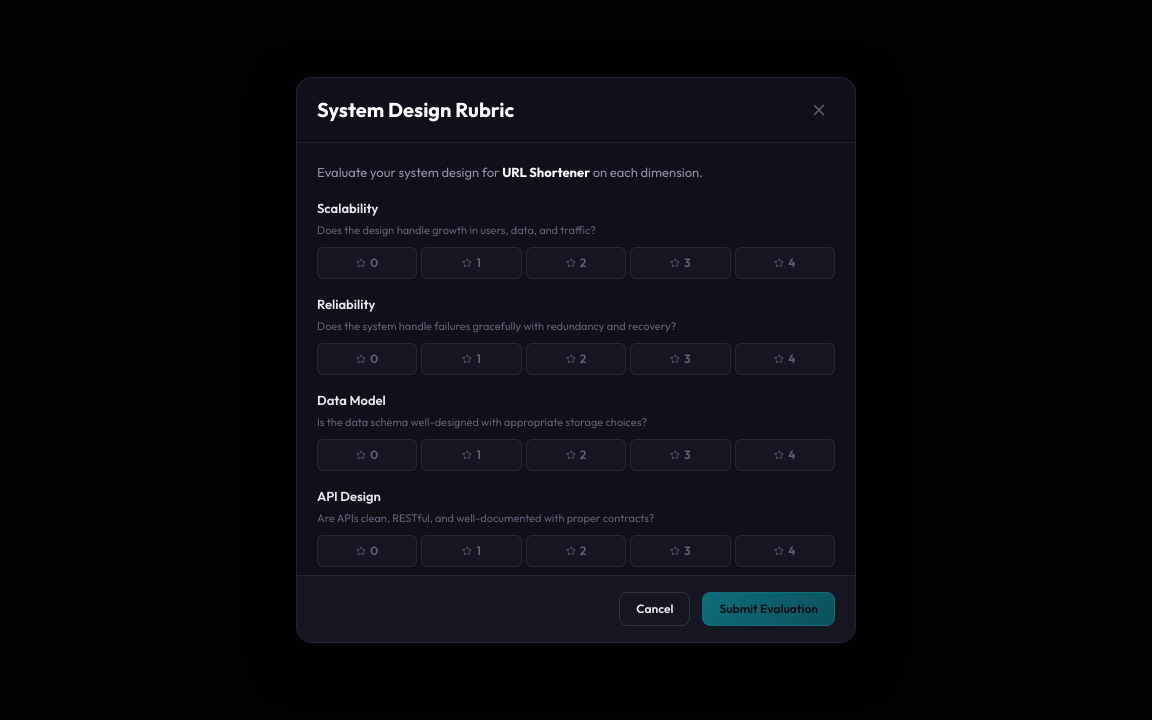
Scenario: SystemDesignRubric › score buttons › shows score label after clicking score 4 for Scalability
// Click the first "4" button (belongs to Scalability — first dimension)
Click the 1st button "4": (785, 262) [735, 246, 835, 278]
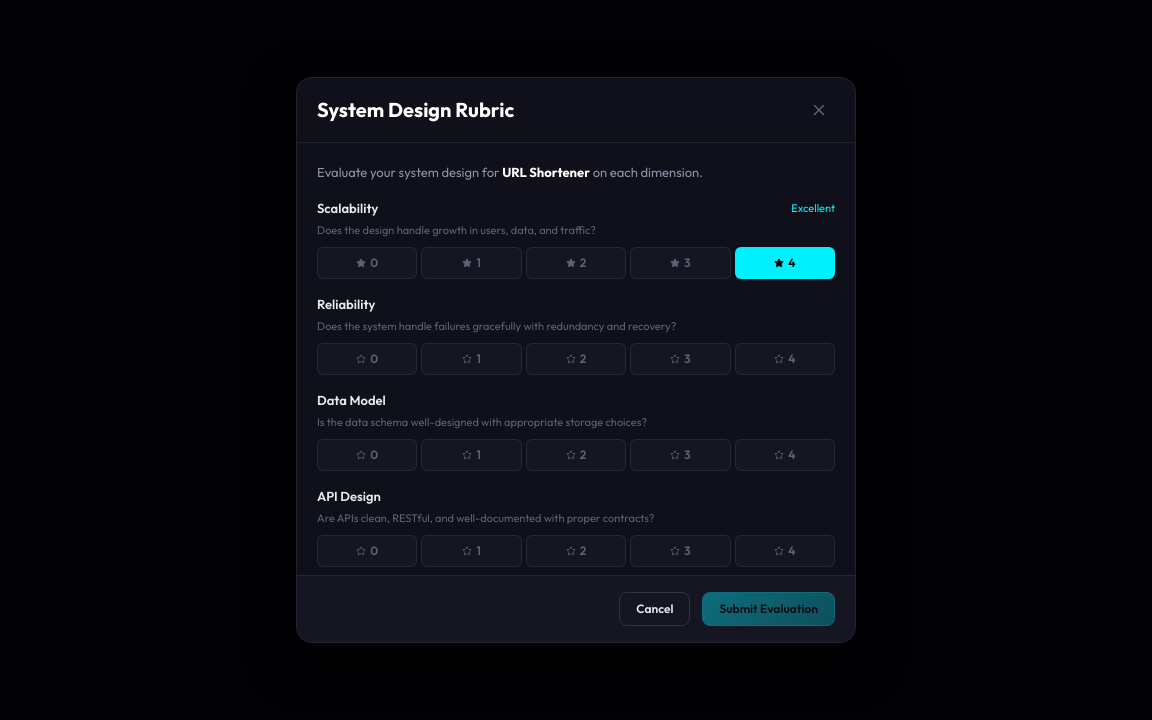
Expected: the text "Excellent" is shown, [791, 200, 835, 216]
